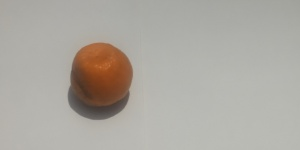BAD: (69, 42, 134, 108)
